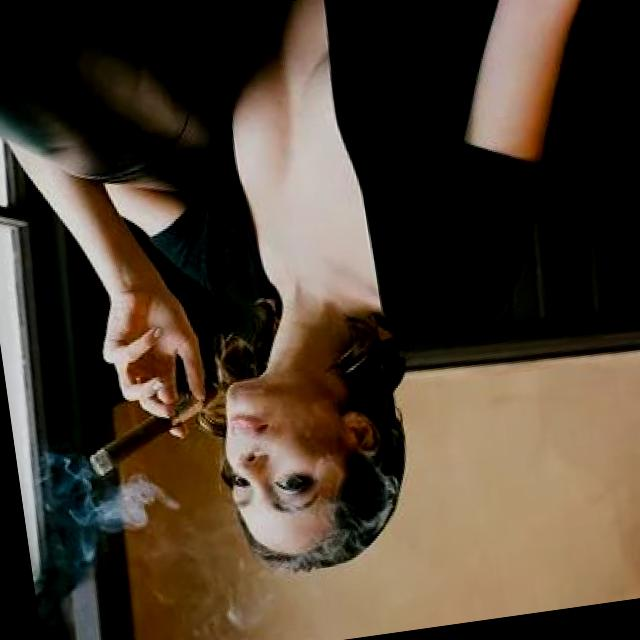smoke: (79, 361, 241, 483)
